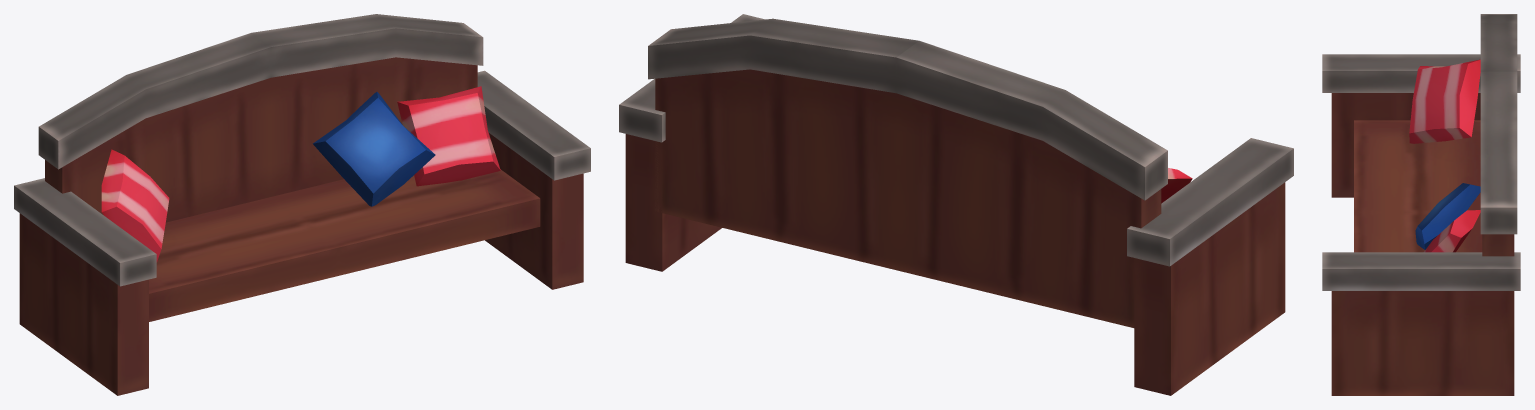
Rendered from Pirate Couch.fbx.
The picture shows the model from 3 angles, left to right: view 1: azimuth 30°, elevation 25°; view 2: azimuth 150°, elevation 25°; view 3: azimuth 270°, elevation 25°; orthographic projection. The views are drawn at different scales.
Visible parts, largest first — view 1: Pirate_Couch; view 2: Pirate_Couch; view 3: Pirate_Couch.
Boxes of the visible parts, x1,y1,x2,y2 form: Pirate_Couch: [14, 14, 590, 395]; Pirate_Couch: [619, 14, 1293, 395]; Pirate_Couch: [1322, 14, 1520, 395].
Size of the model in its own units: 260 by 123 by 101.
